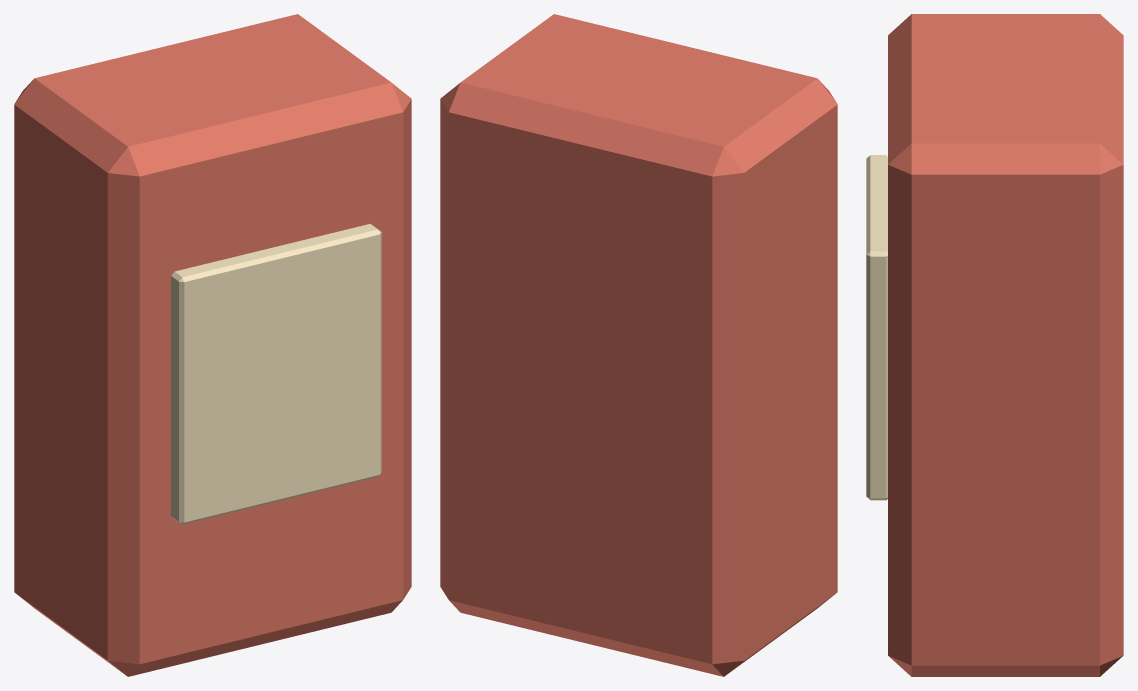
File: Prop_ProductBox.fbx
The picture shows the model from 3 angles, left to right: view 1: azimuth 30°, elevation 25°; view 2: azimuth 150°, elevation 25°; view 3: azimuth 270°, elevation 25°; orthographic projection.
Visible parts, largest first — view 1: Package, Label.018; view 2: Package; view 3: Package, Label.018.
Part boxes in pixels (x1,y1,x2,y2): Package: (14,14,411,676); Label.018: (171,223,381,524); Package: (440,14,837,676); Package: (888,14,1123,676); Label.018: (866,155,887,500).
Bounding box in the file's own units: 0.18 × 0.3 × 0.131.
